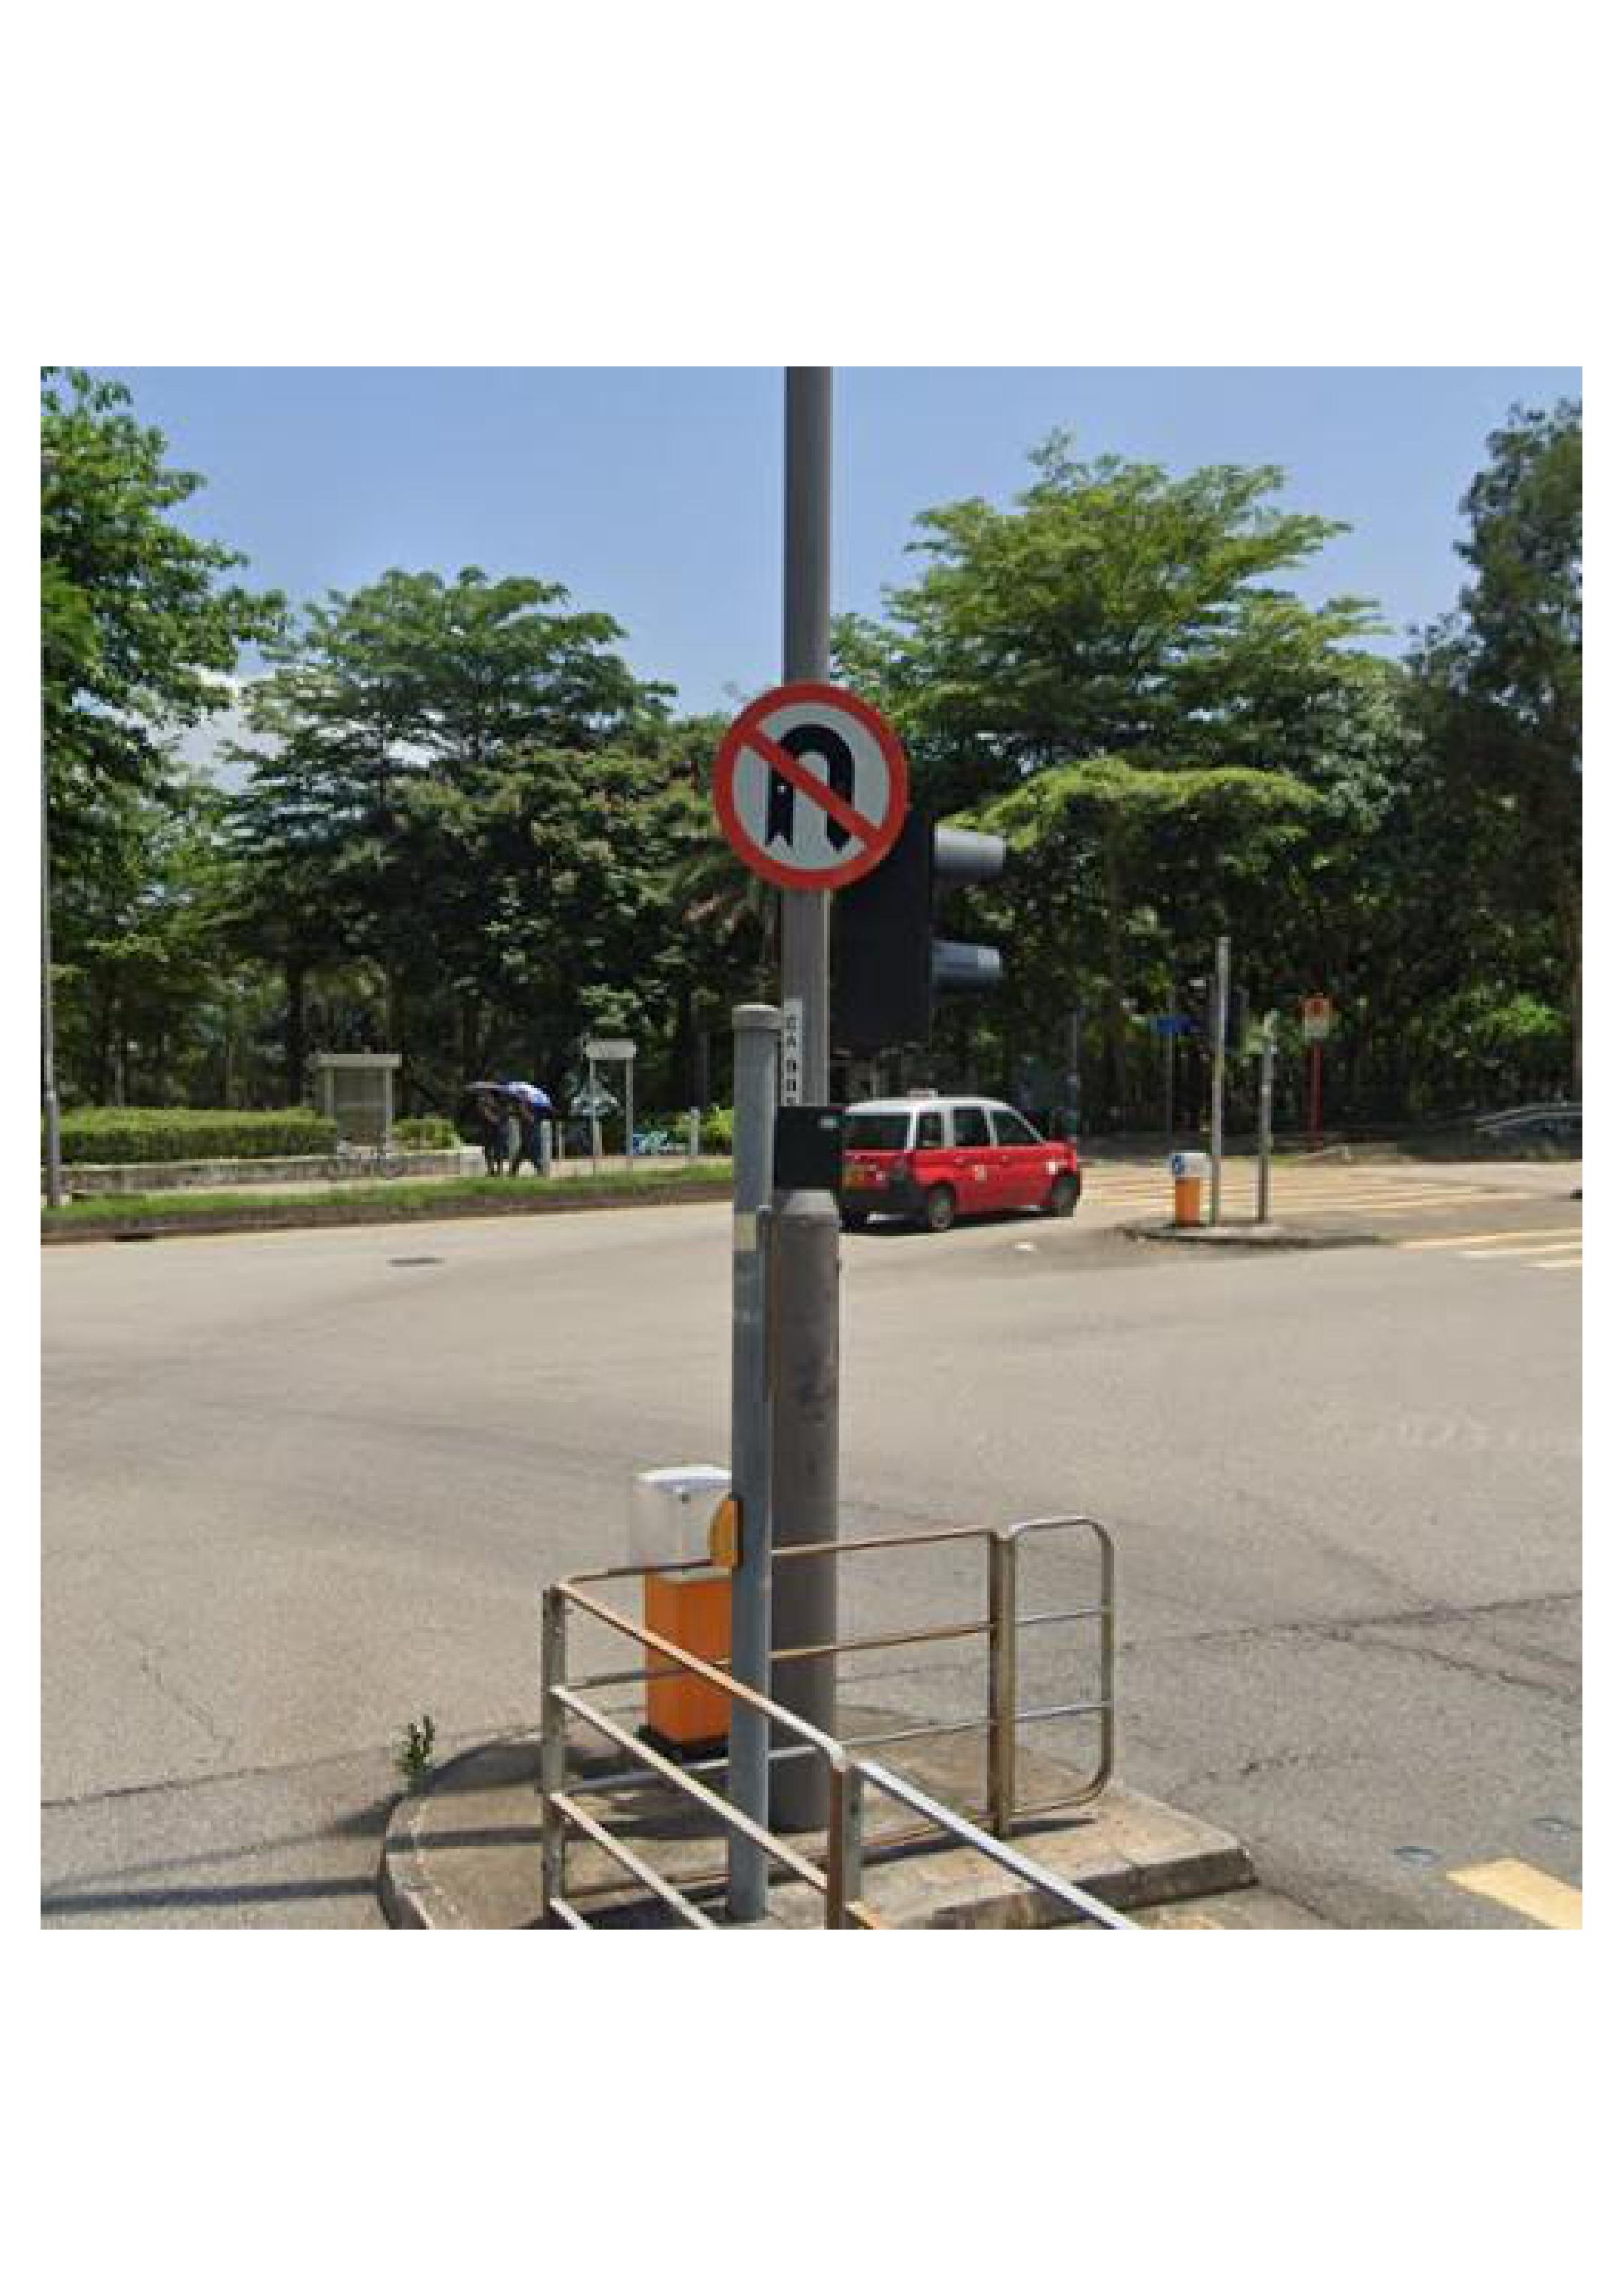No Uturn: (706, 681, 913, 872)
